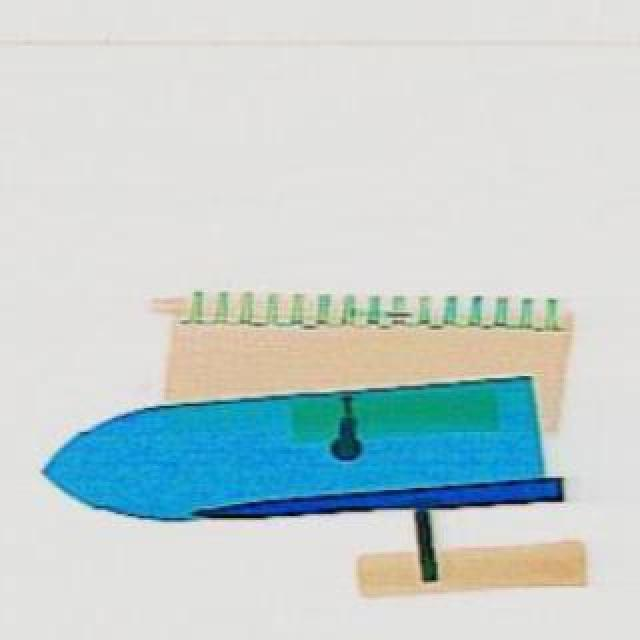knife: (32, 368, 544, 530)
